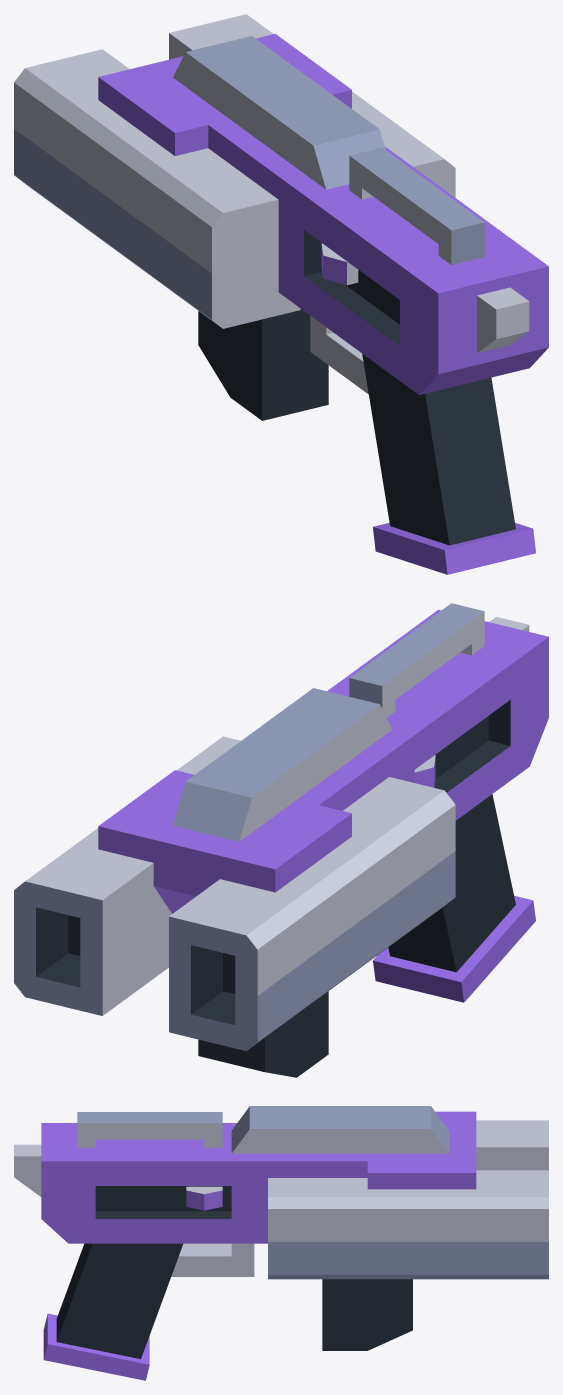
File: blasterL.dae
3 renders of one model, top to bottom at view 1: azimuth 30°, elevation 25°; view 2: azimuth 150°, elevation 25°; view 3: azimuth 270°, elevation 25°, orthographic. The views are drawn at different scales.
Visible parts, largest first — view 1: blasterL; view 2: blasterL; view 3: blasterL.
Boxes of the visible parts, bbox=[...] form: blasterL: bbox=[14, 14, 548, 574]; blasterL: bbox=[14, 603, 548, 1077]; blasterL: bbox=[14, 1106, 548, 1380].
Size of the model in its own units: 0.22 by 0.3017 by 0.59.
